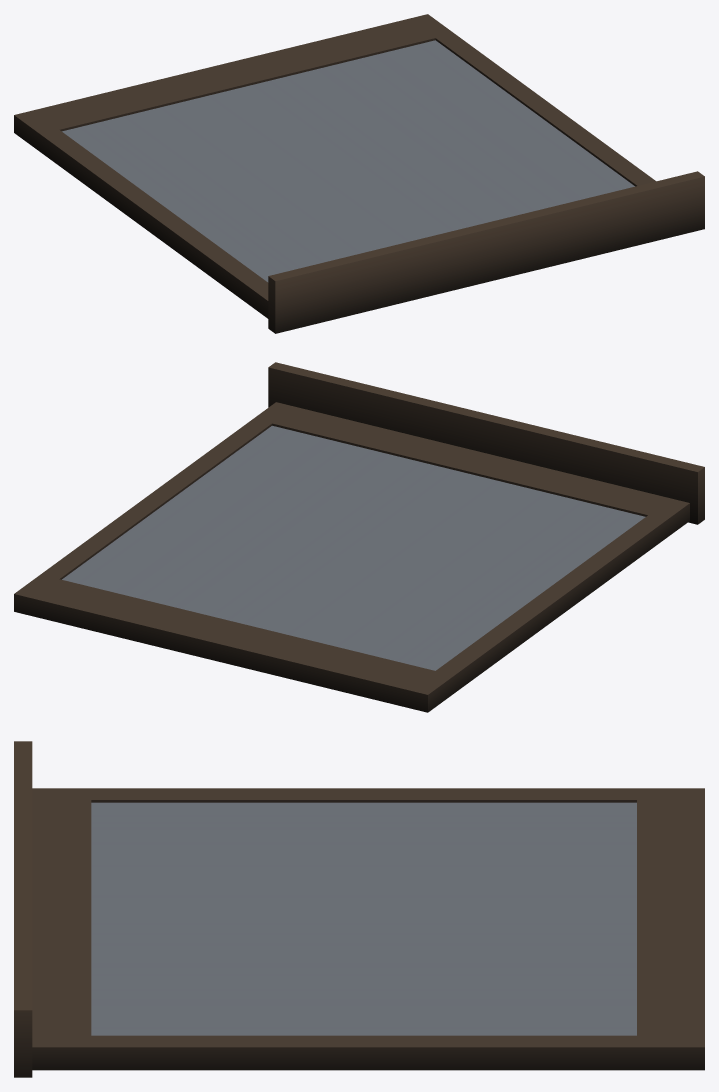
The model's file is Dryer_M_LintScreen_1_Laundromat.fbx.
3 views of the same model, one above another, from view 1: azimuth 30°, elevation 25°; view 2: azimuth 150°, elevation 25°; view 3: azimuth 270°, elevation 25° (orthographic). The views are drawn at different scales.
Parts seen in each view (by area): view 1: Dryer_M_LintScreen_1.Laundromat; view 2: Dryer_M_LintScreen_1.Laundromat; view 3: Dryer_M_LintScreen_1.Laundromat.
Part boxes in pixels (x1,y1,x2,y2): Dryer_M_LintScreen_1.Laundromat: [14, 14, 704, 333]; Dryer_M_LintScreen_1.Laundromat: [14, 362, 704, 712]; Dryer_M_LintScreen_1.Laundromat: [14, 741, 704, 1077].
Size of the model in its own units: 51.74 by 6.06 by 56.18.
Materials: 1 (1 with a texture image).
